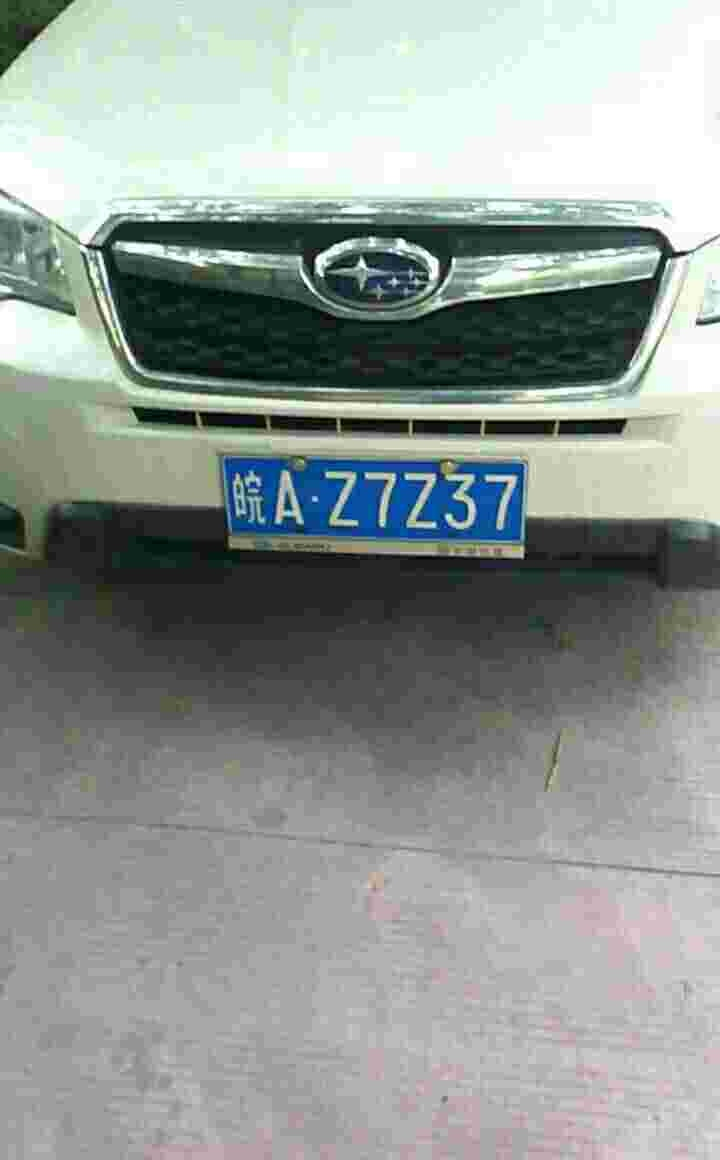license_plate: (219, 461, 540, 545)
